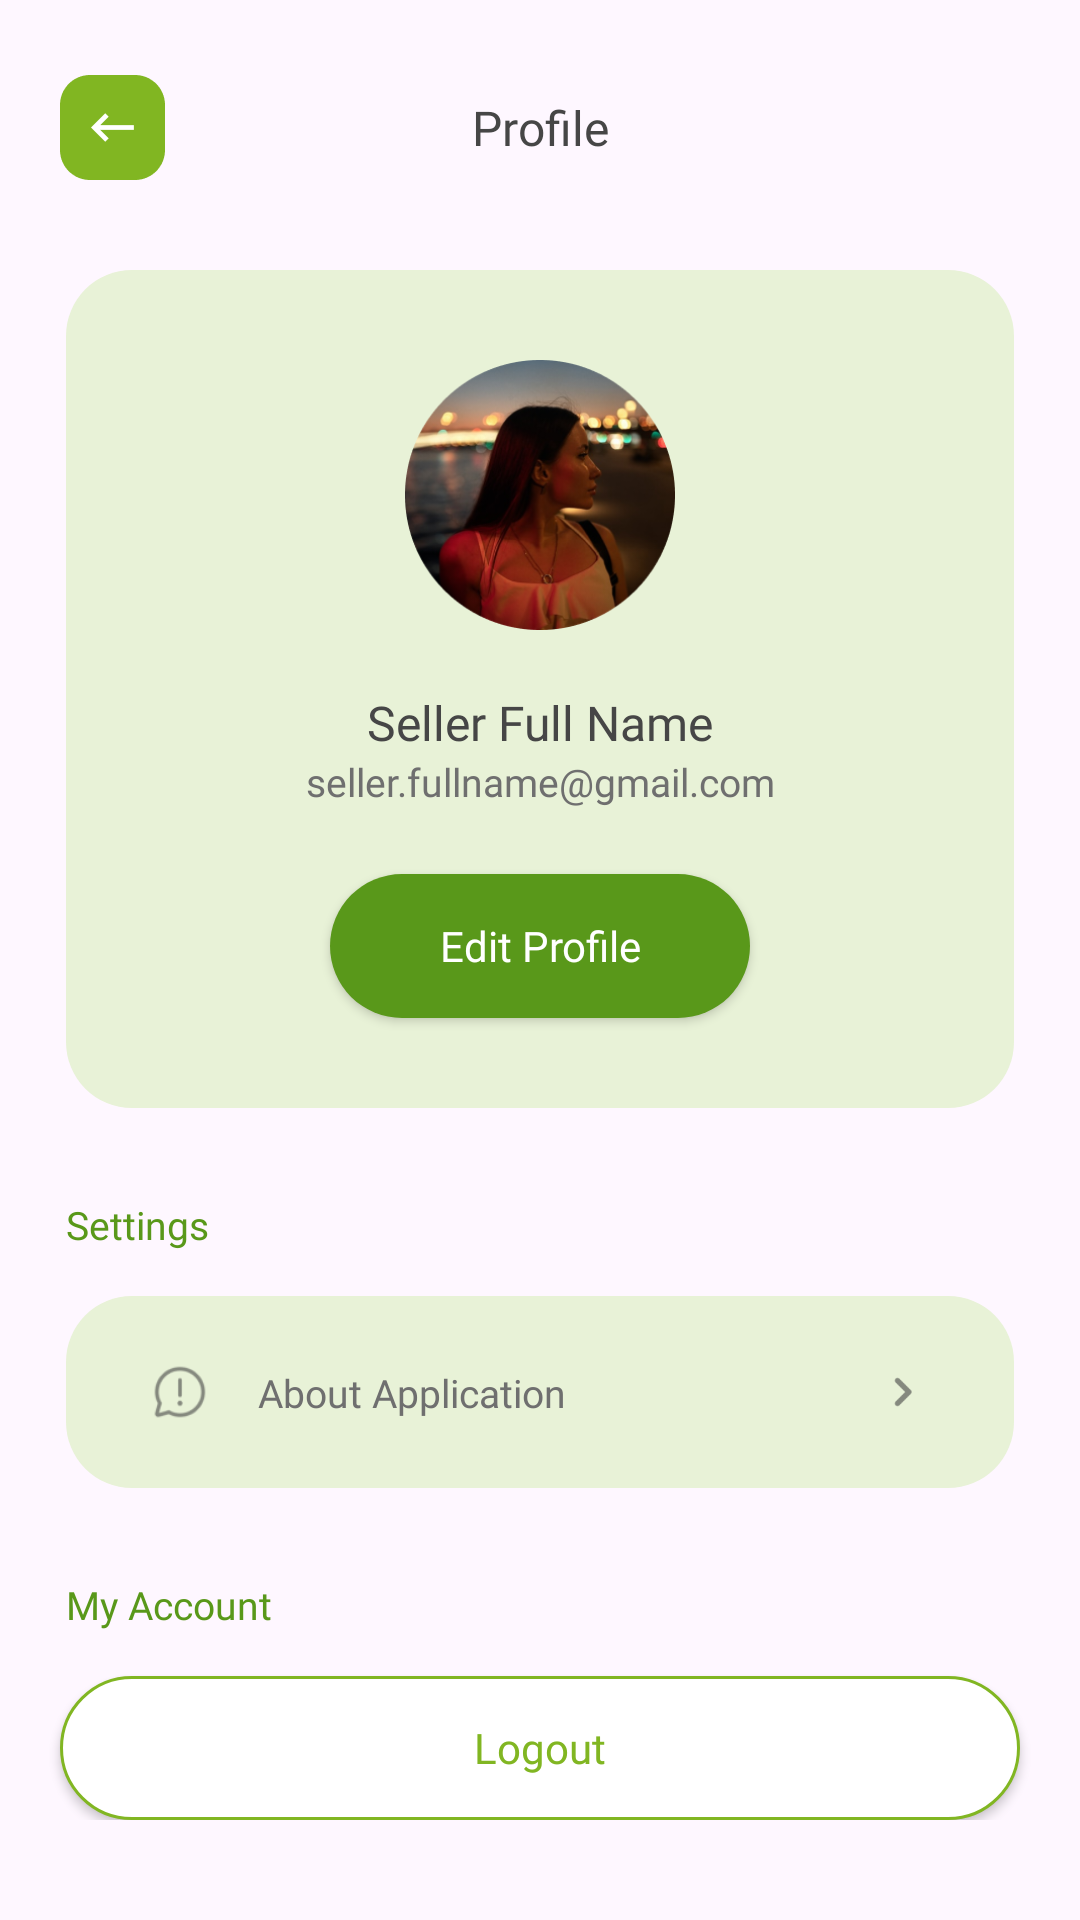

Named icons in this screenshot (1080w x 1920h) and their bounding boxes, (x1=x1, y1=y1, x2=x2, y2=y2):
back: (x1=60, y1=75, x2=165, y2=180)
forward: (x1=895, y1=1378, x2=912, y2=1406)
profile: (x1=405, y1=360, x2=675, y2=630)
